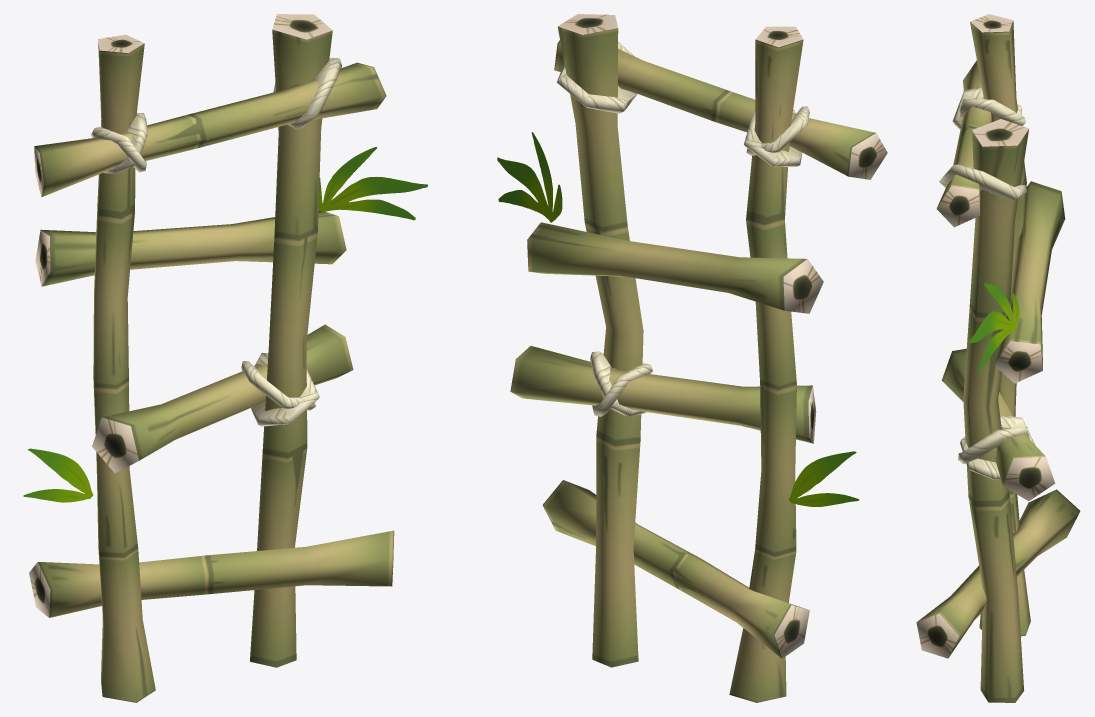
File: LadderShortBamboo.fbx
3 renders of one model, left to right at view 1: azimuth 30°, elevation 25°; view 2: azimuth 150°, elevation 25°; view 3: azimuth 270°, elevation 25°, orthographic. The views are drawn at different scales.
Parts seen in each view (by area): view 1: boo.003, boo.004, boo.006, boo, boo.008, boo.007, lef.001, rop.007, rop.010, rop.006, rop.008, rop.009; view 2: boo.003, boo.004, boo.008, boo.007, boo.006, boo, lef.001, rop.010, rop.009, rop.007, rop.006, rop.008; view 3: boo.003, boo.008, boo.006, boo.004, boo.007, boo, lef.001, rop.010, rop.007, rop.006, rop.009, rop.008.
Part boxes in pixels (x1=…): boo.003: x1=250, y1=14, x2=332, y2=667; boo.004: x1=93, y1=34, x2=155, y2=702; boo.006: x1=29, y1=530, x2=394, y2=617; boo: x1=34, y1=62, x2=386, y2=197; boo.008: x1=35, y1=210, x2=346, y2=286; boo.007: x1=92, y1=324, x2=353, y2=473; lef.001: x1=23, y1=147, x2=427, y2=502; rop.007: x1=251, y1=353, x2=319, y2=426; rop.010: x1=273, y1=57, x2=341, y2=129; rop.006: x1=241, y1=361, x2=315, y2=410; rop.008: x1=91, y1=127, x2=146, y2=172; rop.009: x1=103, y1=113, x2=147, y2=173; boo.003: x1=557, y1=14, x2=643, y2=667; boo.004: x1=729, y1=26, x2=803, y2=702; boo.008: x1=527, y1=222, x2=823, y2=313; boo.007: x1=510, y1=346, x2=816, y2=443; boo.006: x1=542, y1=480, x2=809, y2=658; boo: x1=554, y1=40, x2=887, y2=179; lef.001: x1=497, y1=132, x2=859, y2=506; rop.010: x1=556, y1=42, x2=637, y2=113; rop.009: x1=744, y1=107, x2=802, y2=166; rop.007: x1=590, y1=351, x2=646, y2=416; rop.006: x1=592, y1=363, x2=652, y2=416; rop.008: x1=746, y1=106, x2=809, y2=155; boo.003: x1=963, y1=119, x2=1028, y2=702; boo.008: x1=994, y1=181, x2=1065, y2=383; boo.006: x1=916, y1=489, x2=1080, y2=658; boo.004: x1=970, y1=14, x2=1030, y2=636; boo.007: x1=941, y1=348, x2=1055, y2=501; boo: x1=936, y1=60, x2=991, y2=227; lef.001: x1=969, y1=283, x2=1019, y2=372; rop.010: x1=939, y1=164, x2=1027, y2=200; rop.007: x1=958, y1=426, x2=1029, y2=463; rop.006: x1=960, y1=415, x2=1034, y2=479; rop.009: x1=960, y1=99, x2=1025, y2=125; rop.008: x1=952, y1=86, x2=1021, y2=129.
Size of the model in its own units: 316 by 483 by 119.
